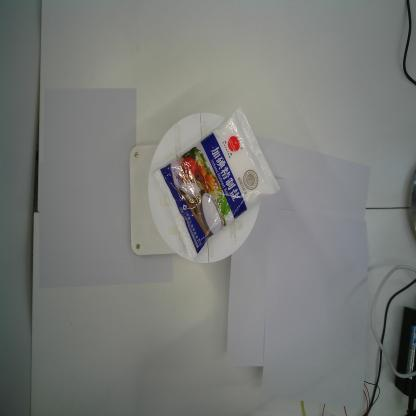Seasoner: (151, 102, 282, 260)
